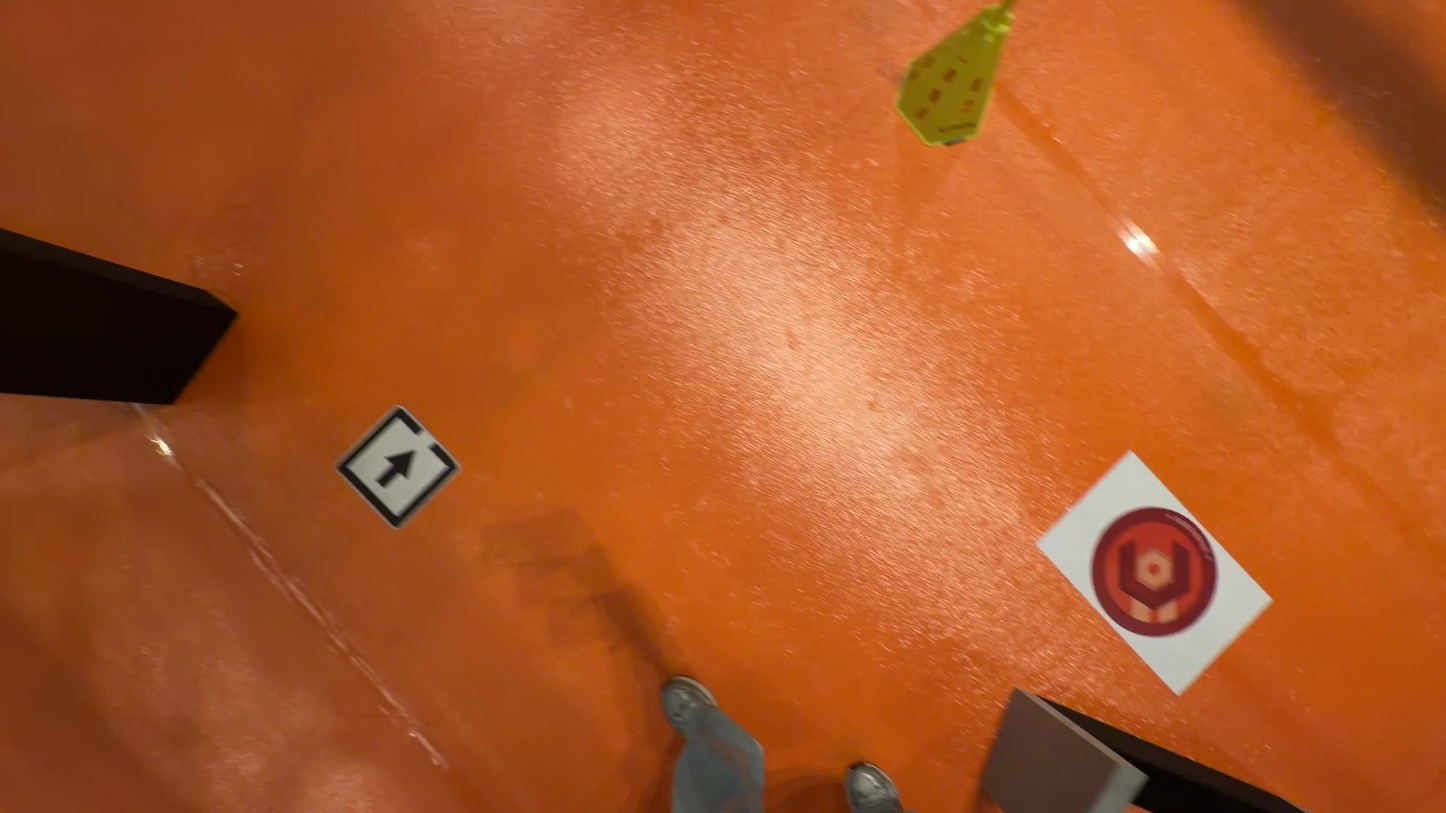landing_pad: (1090, 511, 1218, 641)
